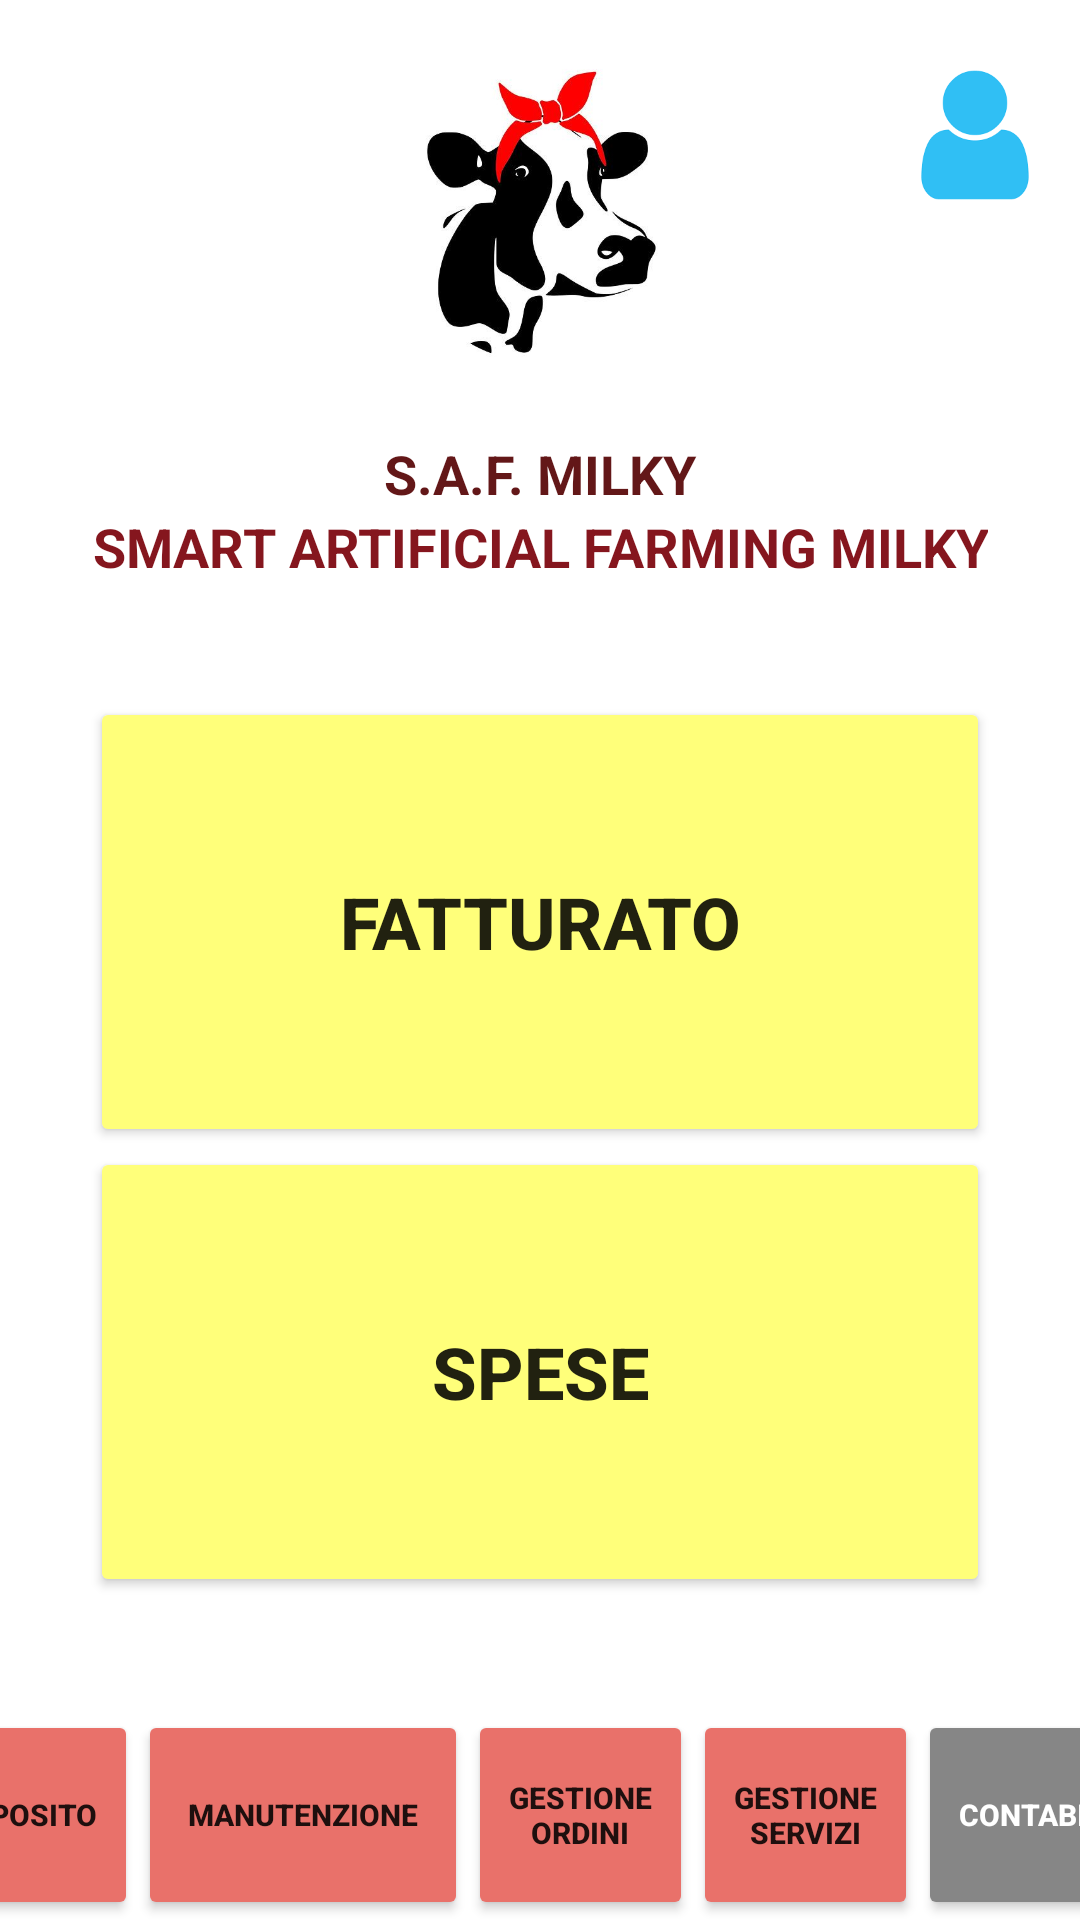

Named icons in this screenshot (1080x1920) and their centers, (x,y):
user: (975,135)
